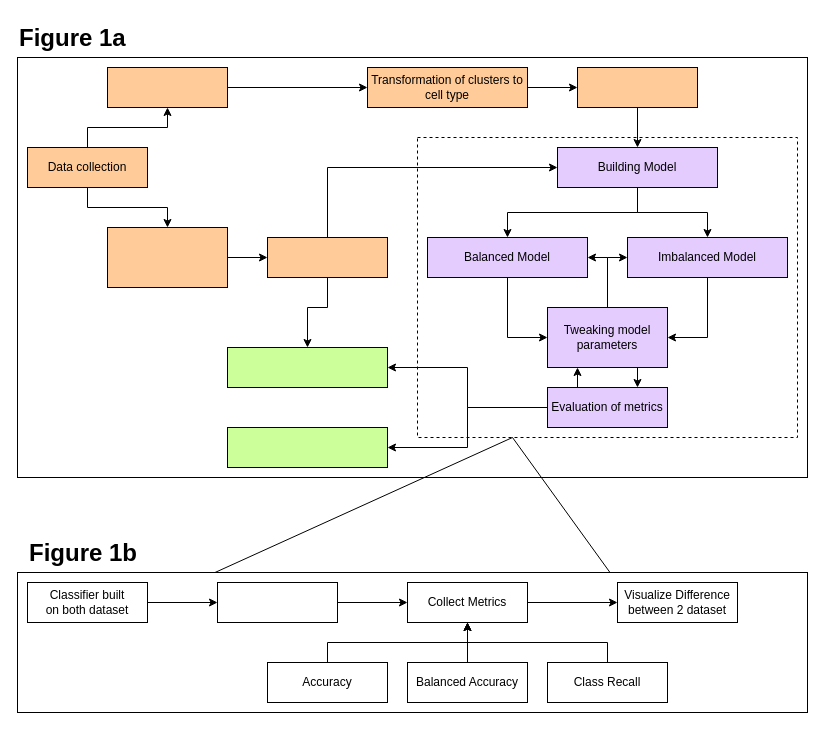
This 825x730 diagram has some shape labels left out. Here are the shapes that lost their labels. From the top down, the centre of each, then its label:
point (167, 87): LogFC Table Acquisition
point (637, 87): Add Cell Boundaries
point (167, 257): Balanced Data Acquisition - getting more cell images
point (327, 257): Masking cell images with cell boundaries
point (307, 367): Demonstration of model prediction on Shiny
point (307, 447): Final evaluation metrics and analysis on Shiny
point (277, 602): 2-way Holdout method
